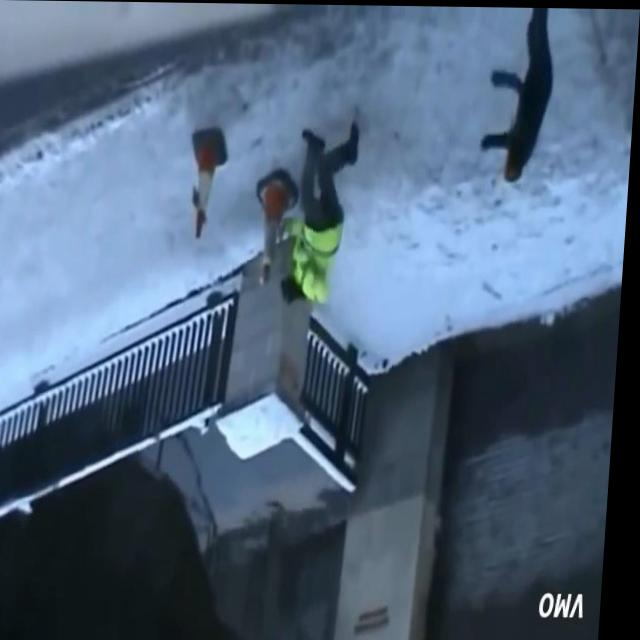fall: (287, 107, 364, 312)
